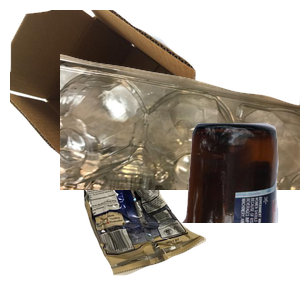cardboard: (10, 10, 218, 190)
glass: (87, 120, 300, 300)
plastic: (60, 52, 300, 232)
trash: (81, 137, 280, 300)
